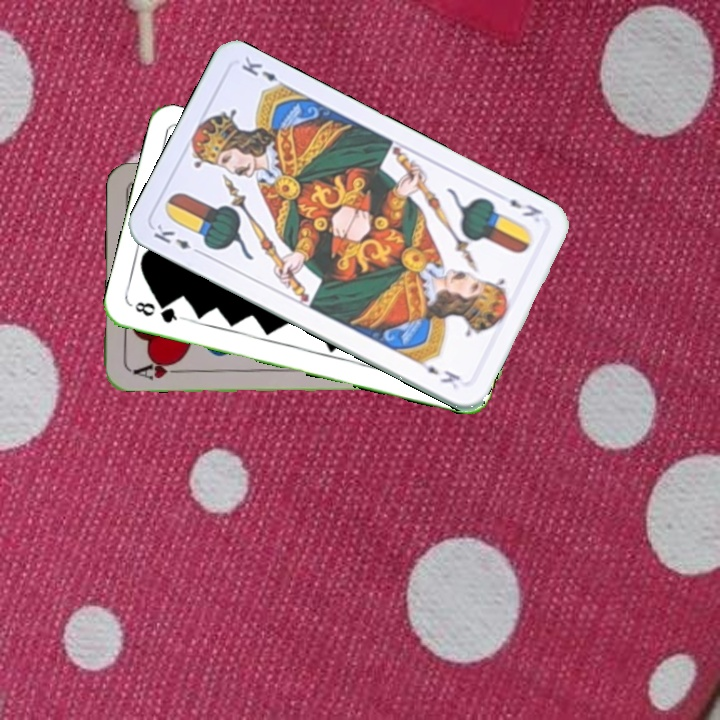EK: (149, 220, 205, 257), (505, 195, 546, 220)
G8: (131, 297, 186, 326)
HA: (130, 356, 187, 382)
